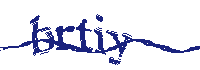b: (29, 15, 55, 54)
i: (92, 11, 108, 57)
r: (54, 23, 74, 55)
t: (75, 17, 94, 52)
y: (106, 27, 131, 66)
